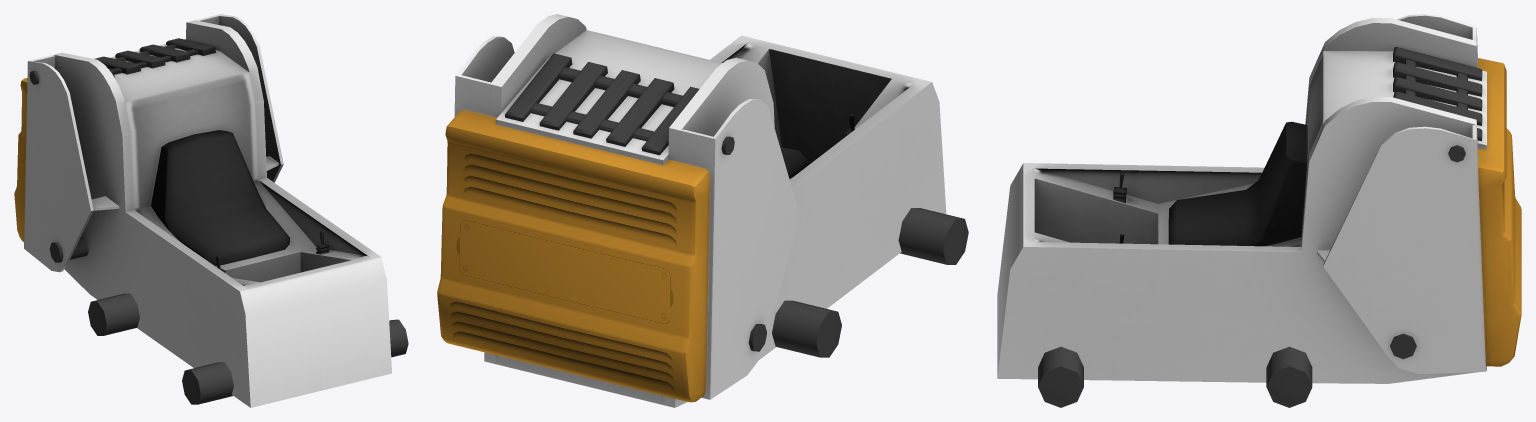
The model's file is Construction3.FBX.
3 views of the same model, side by side, from view 1: azimuth 30°, elevation 25°; view 2: azimuth 150°, elevation 25°; view 3: azimuth 270°, elevation 25° (orthographic). The views are drawn at different scales.
Parts seen in each view (by area): view 1: Construction_3; view 2: Construction_3; view 3: Construction_3.
Boxes of the visible parts, x1,y1,x2,y2 form: Construction_3: (14,14,408,407); Construction_3: (437,14,968,407); Construction_3: (997,14,1521,407).
Size of the model in its own units: 126 by 137 by 227.
